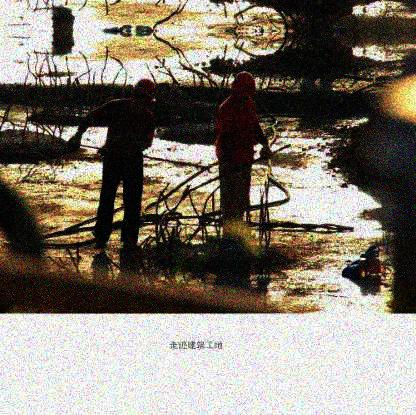helmet: (127, 78, 157, 112), (232, 73, 255, 108)
